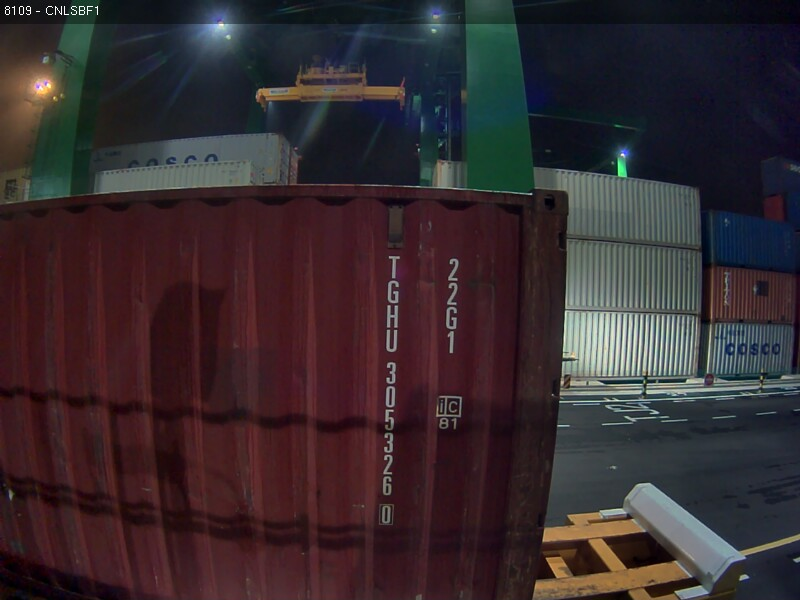container_no_door: (9, 181, 572, 587)
